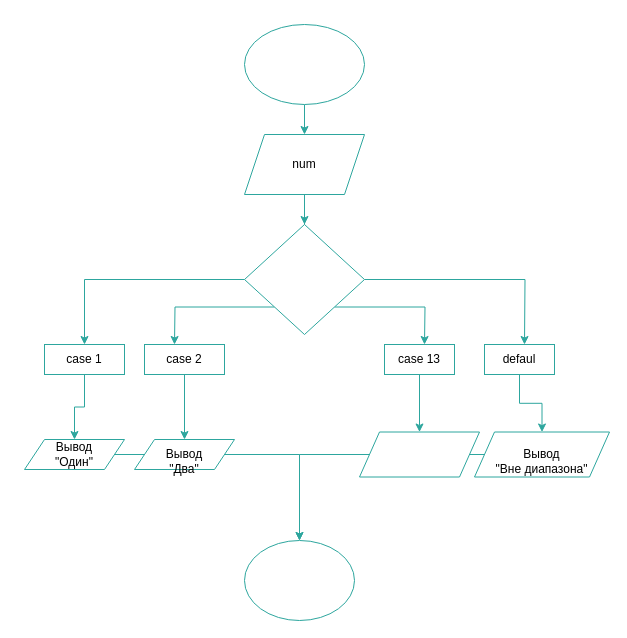
Some shapes in this 627 by 638 pixel diagram are drawn without their labels. The shapes that lost their labels are listed below. From the top down, each one's centre as x and y in pixels, then its label:
point (304, 64): Начало
point (304, 279): switch (num)
point (419, 454): Вывод "Тринадцать"
point (299, 580): конец
